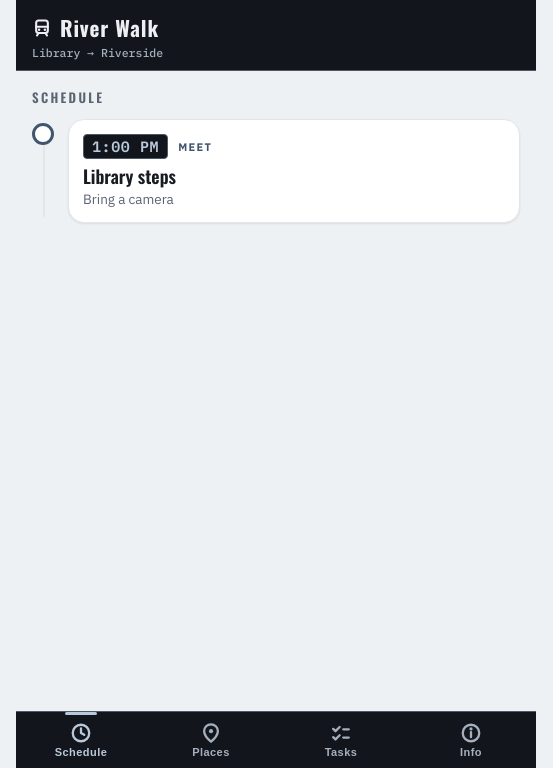
Test case: reuses one resolved crawl across tab switches
Expected: the element with test id "view-schedule" is shown, [32,119,520,223]
Click the button "Places": click(211, 740) [146,712,276,767]
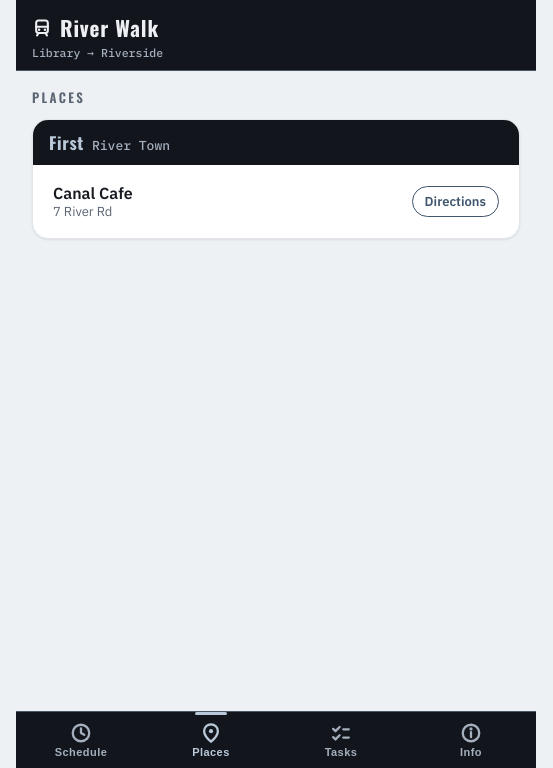
Now the element with test id "view-places" is shown, box [32,119,520,239]
Click the button "Tasks": click(341, 740) [276,712,406,767]
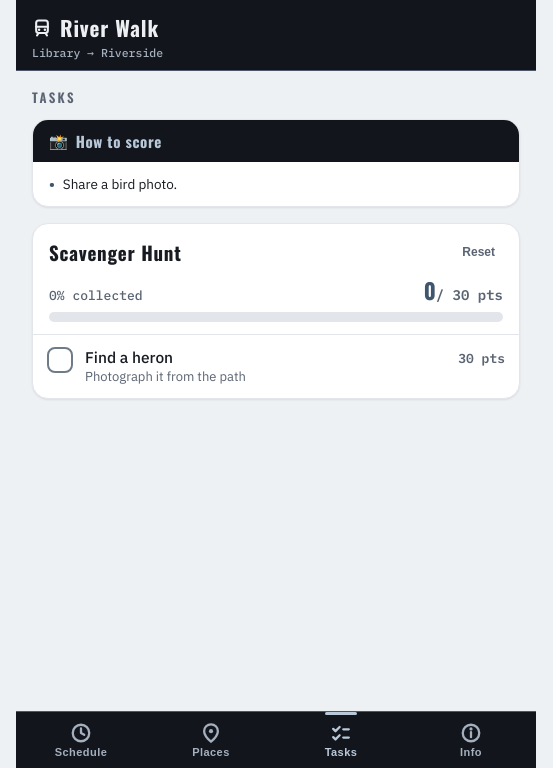
Now the element with test id "view-tasks" is shown, box [32,119,520,399]
Click the button "Schedule": click(81, 740) [16,712,146,767]
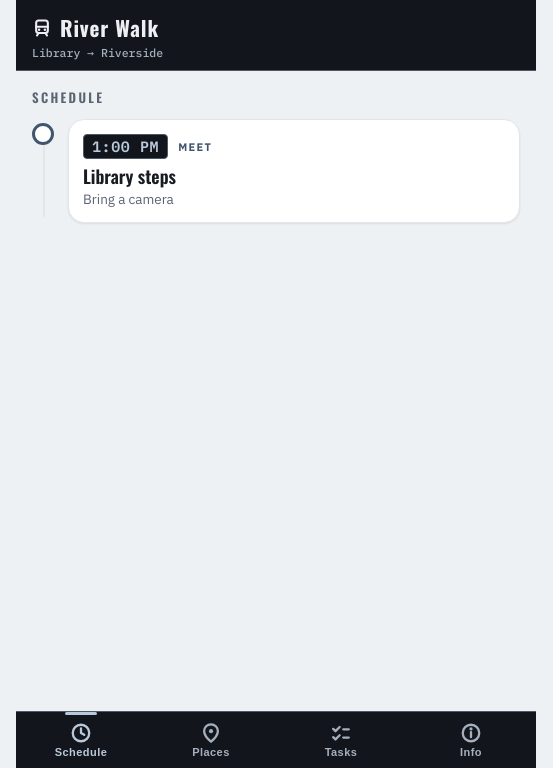
Now the element with test id "view-schedule" is shown, box [32,119,520,223]
Now the text "Library steps" is shown, box [83,163,176,189]
